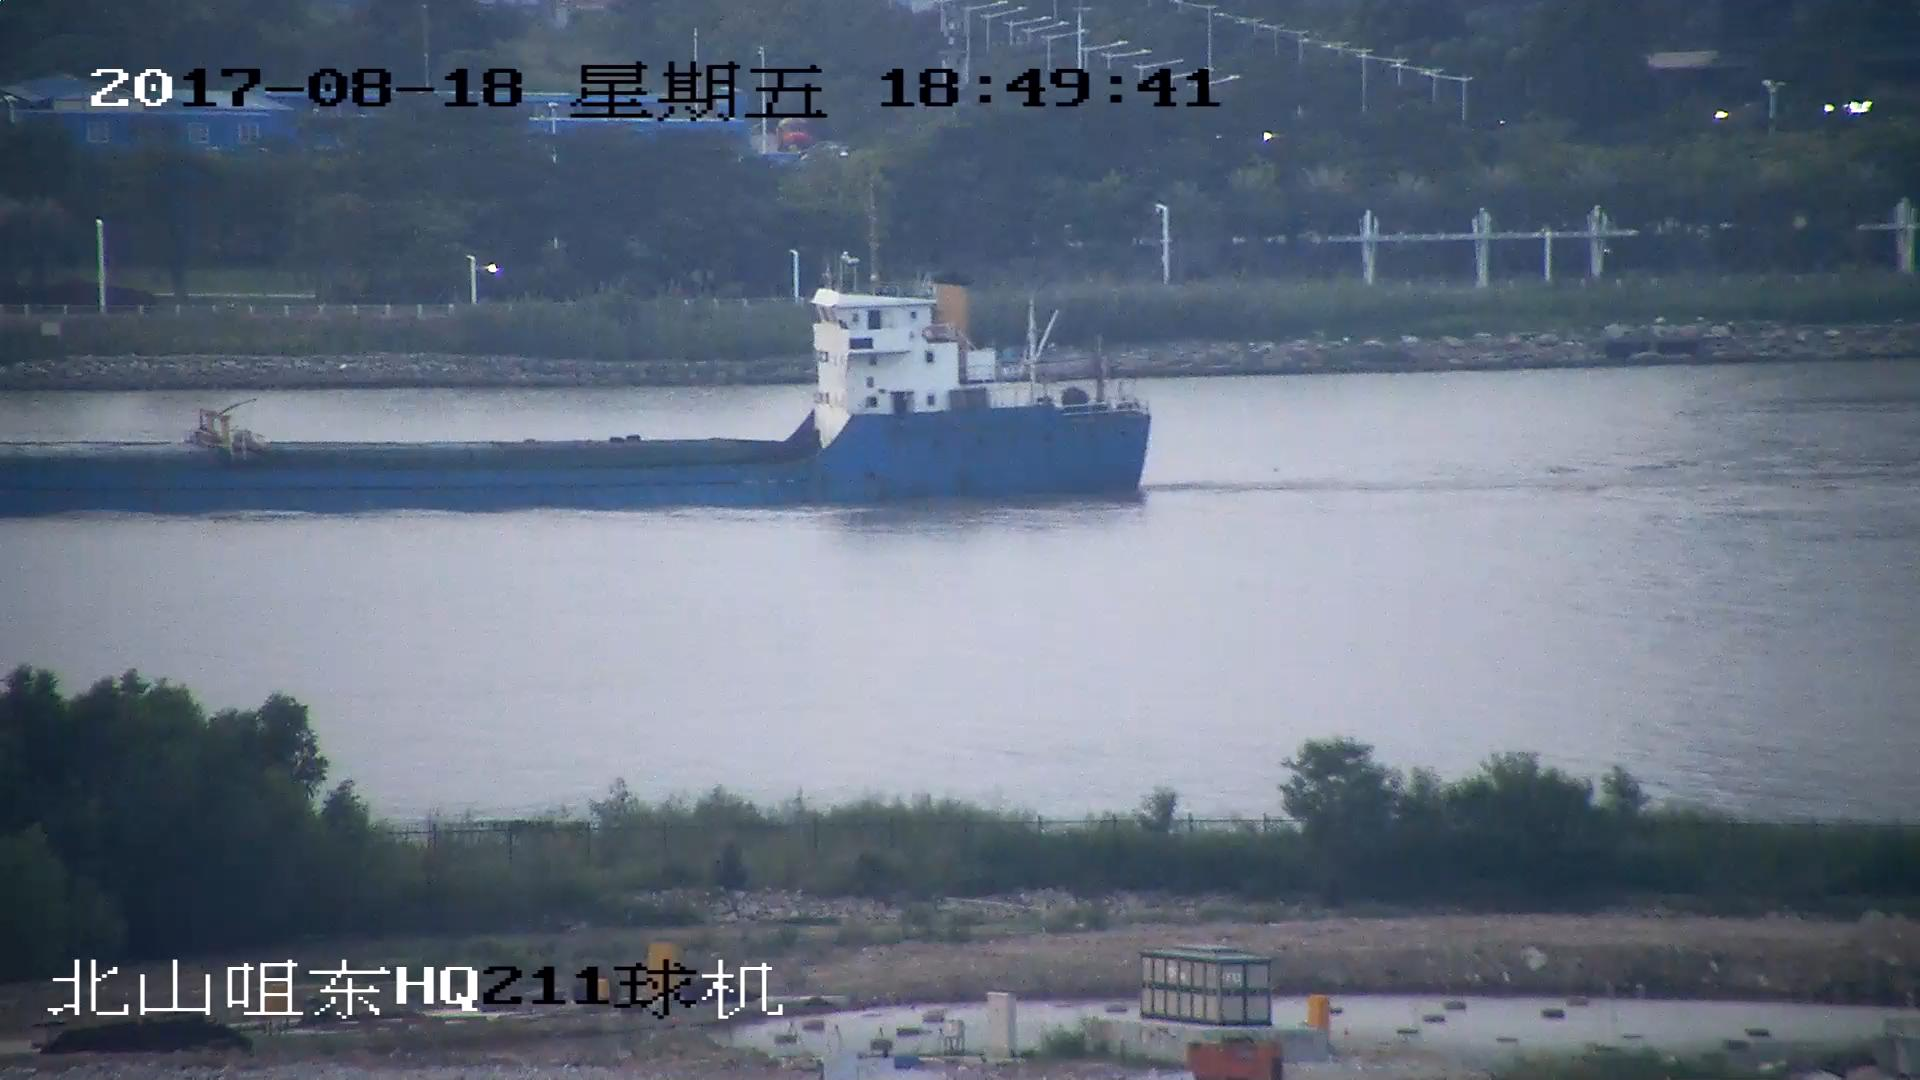general cargo ship: (1, 257, 1147, 510)
